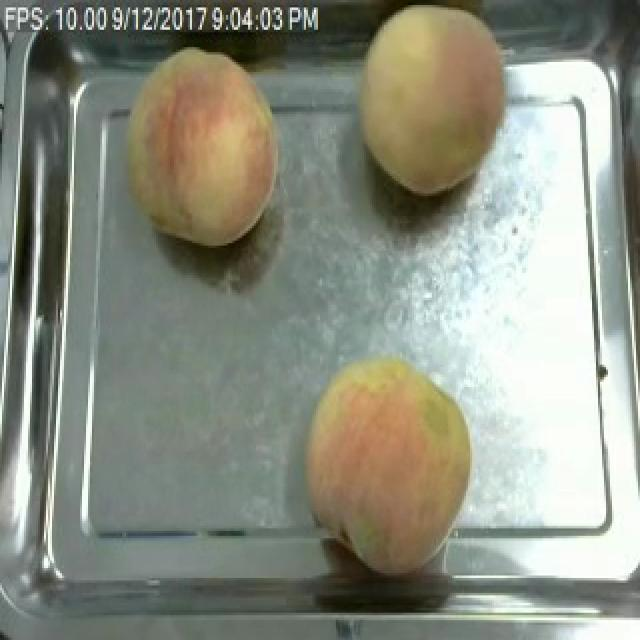Fruit: (294, 345, 480, 578), (108, 37, 290, 256), (344, 0, 518, 206)
